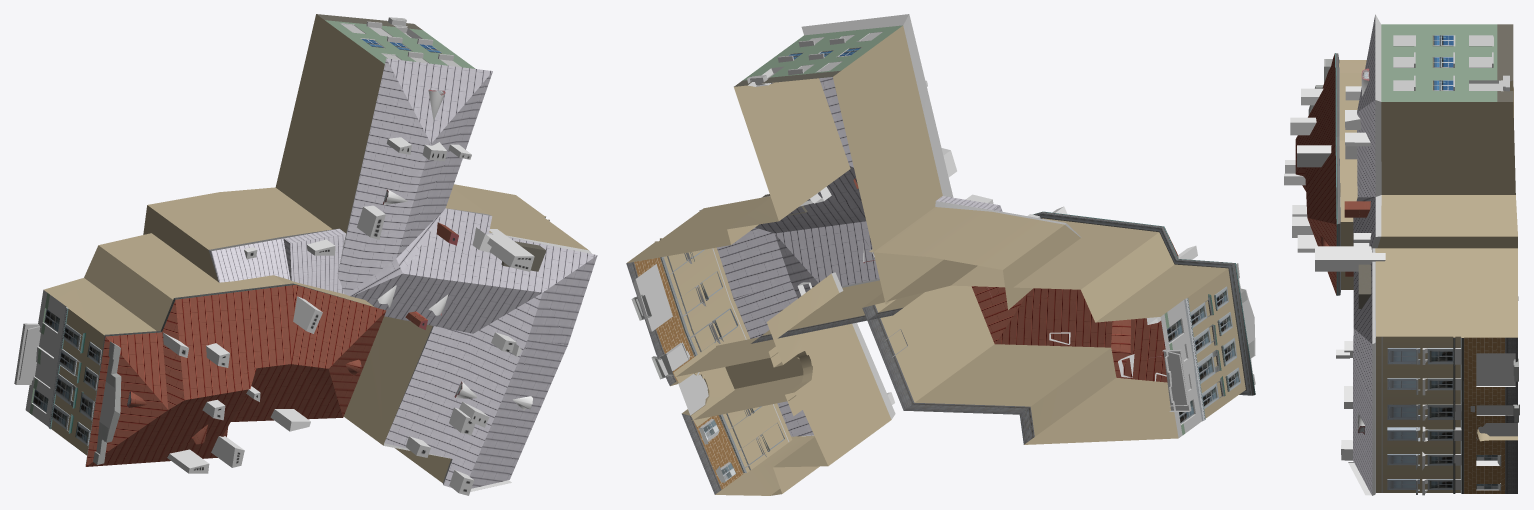
File: Raekoja_plats_14-origo.obj
3 views of the same model, side by side, from view 1: azimuth 30°, elevation 25°; view 2: azimuth 150°, elevation 25°; view 3: azimuth 270°, elevation 25° (orthographic). The views are drawn at different scales.
Parts seen in each view (by area): view 1: Raekoja_plats_14; view 2: Raekoja_plats_14; view 3: Raekoja_plats_14.
Part boxes in pixels (bbox=[...]): Raekoja_plats_14: bbox=[14, 14, 597, 495]; Raekoja_plats_14: bbox=[626, 14, 1255, 495]; Raekoja_plats_14: bbox=[1284, 14, 1519, 495].
Size of the model in its own units: 57.81 by 46.5 by 23.36.
